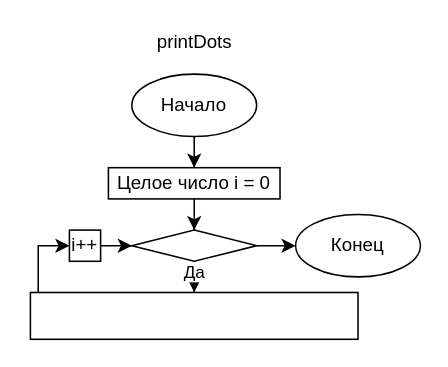
Some shapes in this 448 by 367 pixel diagram are drawn without their labels. Here are the shapes that lost their labels. From the top down, the centre of each, then its label:
(x=193, y=245): i < size()
(x=193, y=315): printf("%sx: %g, y:%g, z:%g\n", i == 0 ? "\n" : "", d[i].x, d[i].y, d[i].z)
